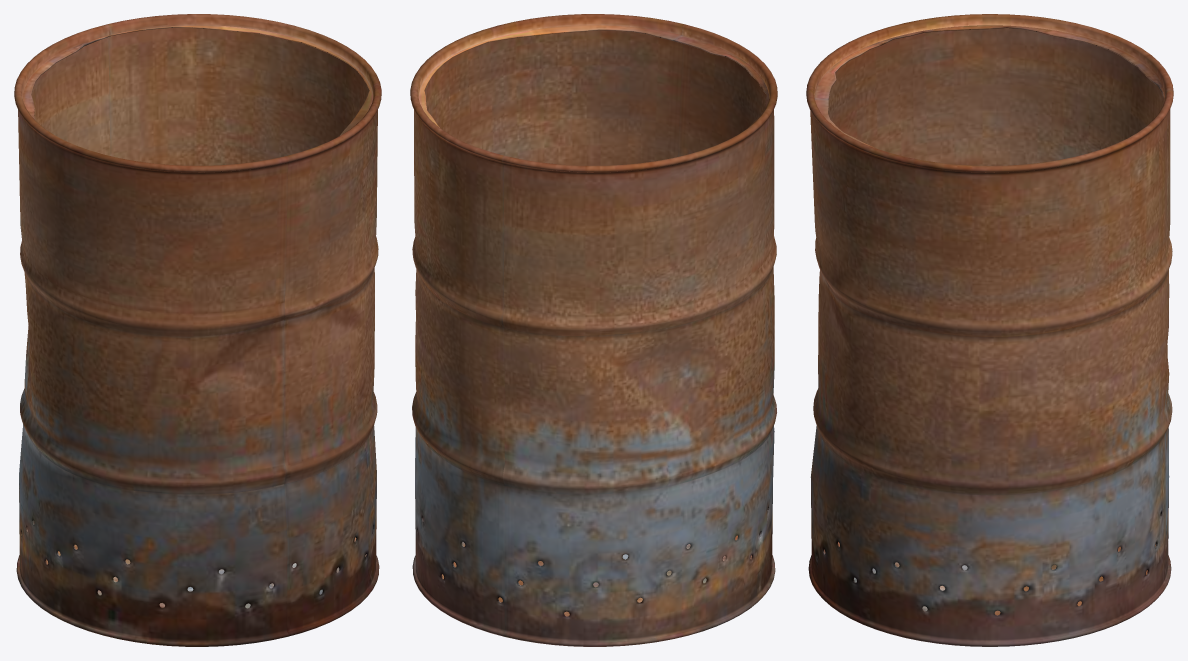
3 renders of one model, left to right at view 1: azimuth 30°, elevation 25°; view 2: azimuth 150°, elevation 25°; view 3: azimuth 270°, elevation 25°, orthographic.
Parts seen in each view (by area): view 1: barrel_stove; view 2: barrel_stove; view 3: barrel_stove.
Part boxes in pixels (x1,y1,x2,y2): barrel_stove: (14, 14, 381, 646); barrel_stove: (410, 14, 777, 646); barrel_stove: (806, 14, 1173, 646).
Bounding box in the file's own units: 0.5926 × 0.8556 × 0.5926.
Materials: 1 (1 with a texture image).
